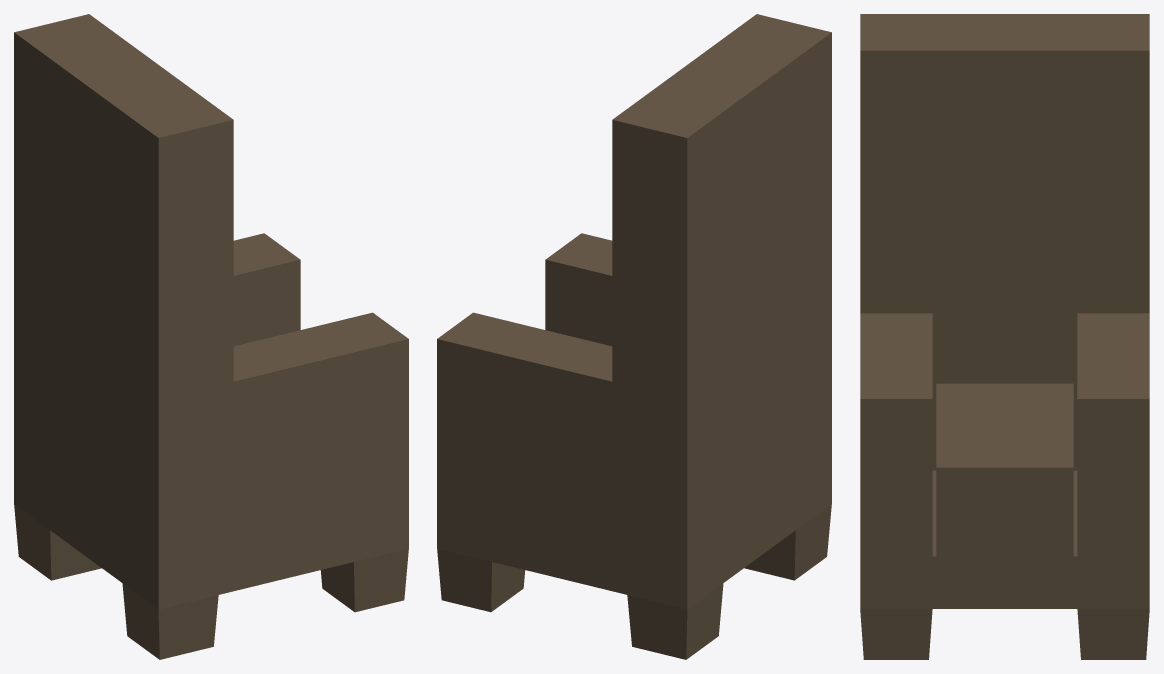
File: Armchair.fbx
3 renders of one model, left to right at view 1: azimuth 30°, elevation 25°; view 2: azimuth 150°, elevation 25°; view 3: azimuth 270°, elevation 25°, orthographic.
Visible parts, largest first — view 1: geo_Armchair; view 2: geo_Armchair; view 3: geo_Armchair.
Boxes of the visible parts, x1,y1,x2,y2 form: geo_Armchair: (14,14,408,659); geo_Armchair: (437,14,831,659); geo_Armchair: (860,14,1149,659).
Bounding box in the file's own units: 1 × 2 × 1.
